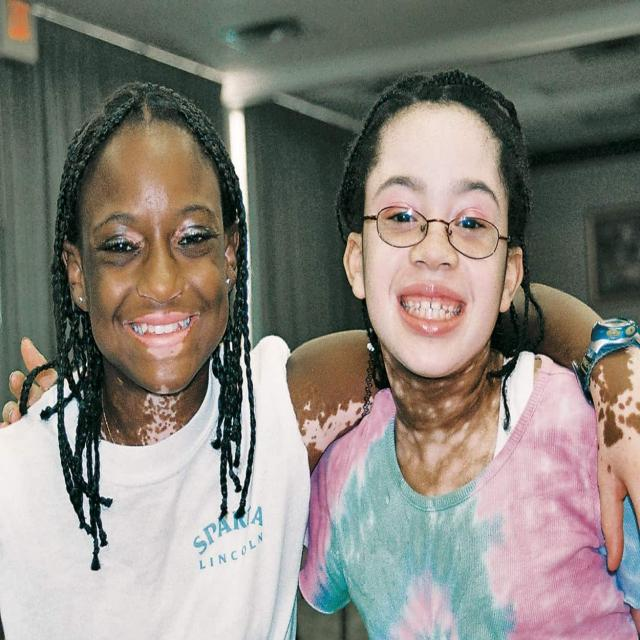vitiligo: (97, 208, 212, 441), (377, 304, 500, 473), (598, 363, 640, 480), (288, 393, 380, 440)
